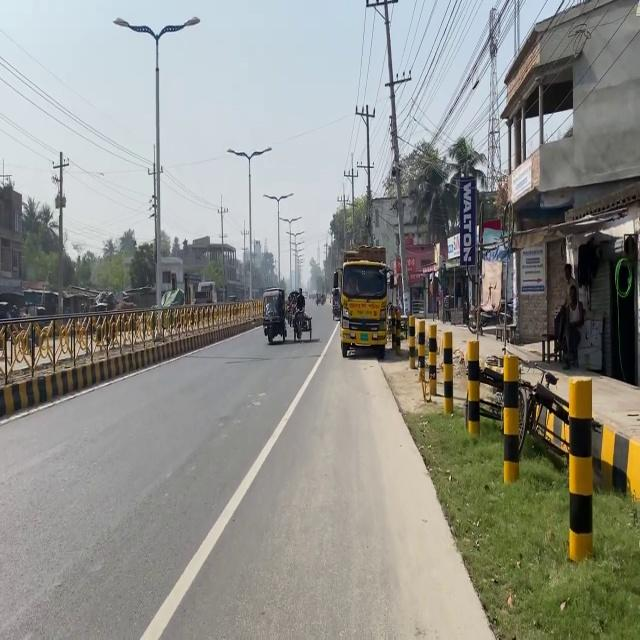Bench: (406, 313, 640, 562)
Construction-barrier: (370, 354, 497, 638)
Fallen-tree: (466, 298, 513, 335), (261, 287, 287, 344), (290, 305, 312, 342)
Garbage-bin: (557, 284, 585, 370)
Pole: (0, 286, 203, 436)
Pothole: (424, 317, 639, 445)
Traffic-cone: (335, 243, 396, 358)
